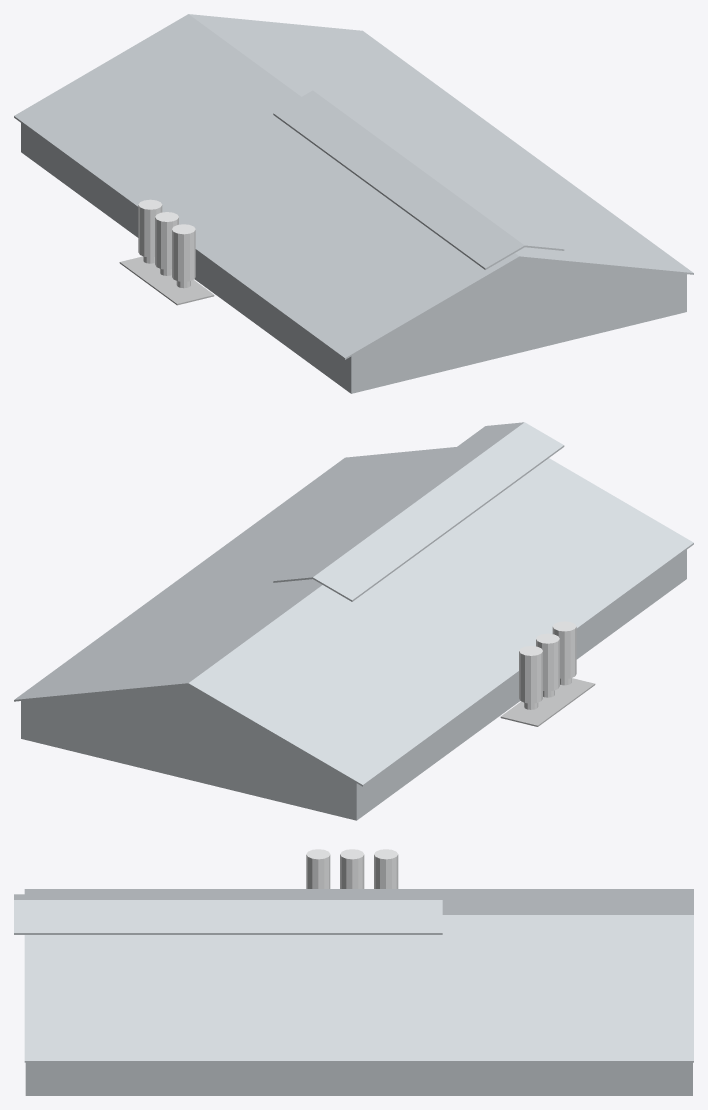
The model's file is voedingsstal.glb.
3 views of the same model, one above another, from view 1: azimuth 30°, elevation 25°; view 2: azimuth 150°, elevation 25°; view 3: azimuth 270°, elevation 25° (orthographic).
Visible parts, largest first — view 1: schuur 3 schuur 3 [5679906], VS_Silo_Pad, VS_Silo_1, VS_Silo_3, VS_Silo_2; view 2: schuur 3 schuur 3 [5679906], VS_Silo_Pad, VS_Silo_3, VS_Silo_1, VS_Silo_2; view 3: schuur 3 schuur 3 [5679906], VS_Silo_1, VS_Silo_2, VS_Silo_3.
Boxes of the visible parts, x1=… form: schuur 3 schuur 3 [5679906]: x1=14, y1=14, x2=693, y2=393; VS_Silo_Pad: x1=119, y1=256, x2=214, y2=305; VS_Silo_1: x1=172, y1=224, x2=195, y2=281; VS_Silo_3: x1=138, y1=199, x2=162, y2=257; VS_Silo_2: x1=155, y1=212, x2=178, y2=269; schuur 3 schuur 3 [5679906]: x1=14, y1=422, x2=693, y2=820; VS_Silo_Pad: x1=500, y1=678, x2=595, y2=726; VS_Silo_3: x1=519, y1=646, x2=542, y2=703; VS_Silo_1: x1=552, y1=621, x2=576, y2=679; VS_Silo_2: x1=536, y1=633, x2=559, y2=691; schuur 3 schuur 3 [5679906]: x1=14, y1=889, x2=693, y2=1095; VS_Silo_1: x1=306, y1=849, x2=330, y2=888; VS_Silo_2: x1=340, y1=849, x2=364, y2=888; VS_Silo_3: x1=374, y1=849, x2=398, y2=888.
Bounding box in the file's own units: 46.27 × 12.88 × 70.3.
12 materials, 1 textured.
